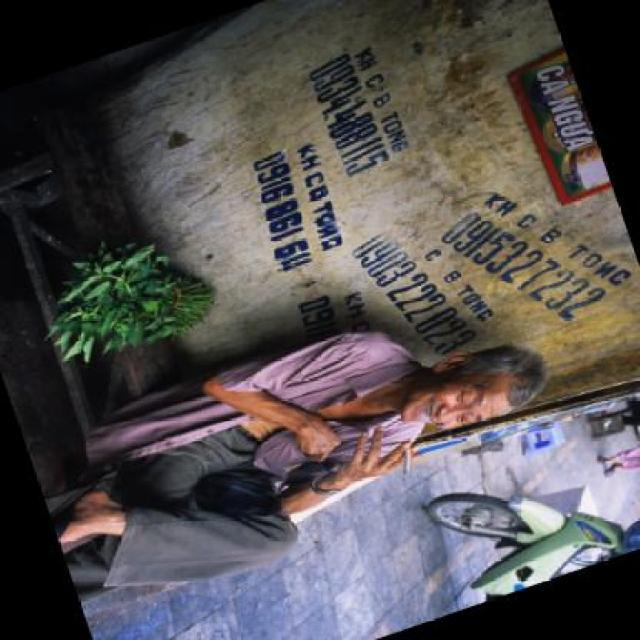cigarette: (391, 441, 422, 477)
